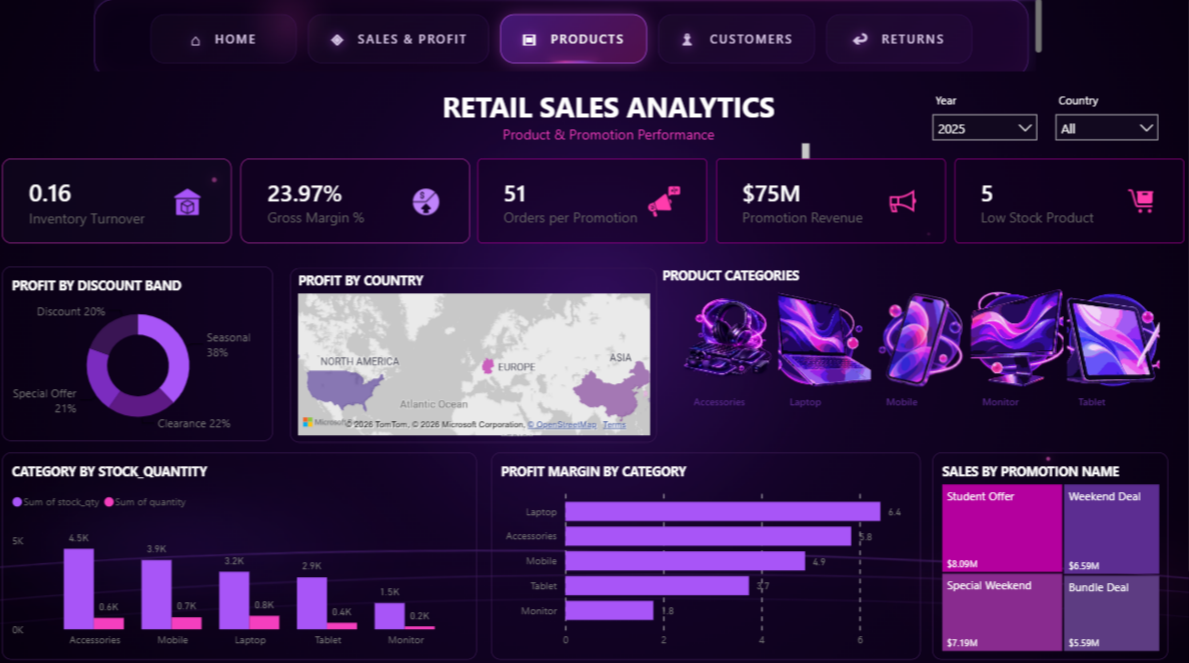

Layout of this report page (visuals, bound fields, positions):
{"tool":"powerbi","page":{"name":"Product & Promotion","canvas":[1280,720],"ordinal":2},"visuals":[{"type":"textStylerD577C9FF21FB4883A1CE1335C340B54F","fields":{"measure":["supplier.Animated Background"]},"box":[0,0,1279.7,720.3],"z":0},{"type":"textStylerD577C9FF21FB4883A1CE1335C340B54F","fields":{"measure":["supplier.Page Navigator product"]},"box":[102,0,1014.8,86.9],"z":1000},{"type":"textbox","title":"RETAIL SALES ANALYTICS","box":[434.6,100.2,436.5,81.3],"z":2000},{"type":"slicer","fields":{"Values":["orders.delivery_date.Variation.Date Hierarchy.Year"]},"box":[986.5,100.2,130.4,60.5],"z":3000},{"type":"slicer","fields":{"Values":["CountryCoordinates.Country"]},"box":[1116.9,100.2,128.5,60.5],"z":4000},{"type":"advancedSlicerVisual","title":"PRODUCT CATEGORIES","fields":{"Values":["CategoryImages.category"]},"box":[704.6,289.5,558.3,168.3],"z":5000},{"type":"clusteredColumnChart","title":"CATEGORY BY STOCK_QUANTITY","fields":{"Category":["product.category"],"Y":["Sum(product.stock_qty)","Sum(order_items.quantity)"]},"box":[10,486.7,503.3,220],"z":6000},{"type":"clusteredBarChart","title":"PROFIT MARGIN BY CATEGORY","fields":{"Category":["product.category Hierarchy.category","product.category Hierarchy.name"],"Y":["Sum(product.Product Profit Margin)"]},"box":[528.3,486.7,455,220],"z":7000},{"type":"donutChart","title":"PROFIT BY DISCOUNT BAND","fields":{"Category":["promotion.promotion_type"],"Y":["CountNonNull(order_items.order_id)"]},"box":[10,290,287.2,185.2],"z":8000},{"type":"treemap","title":"SALES BY PROMOTION NAME","fields":{"Group":["promotion.promotion_name"],"Values":["Sum(orders.total_amount)"]},"box":[995,486.7,250,220],"z":9000},{"type":"filledMap","title":"PROFIT BY COUNTRY","fields":{"Category":["CountryCoordinates.Country"]},"box":[314.5,290.3,388.7,185.5],"z":10000},{"type":"cardVisual","fields":{"Data":["product.Inventory Turnover"]},"box":[9.6,174.2,243.6,90.2],"z":11000},{"type":"cardVisual","fields":{"Data":["product.Low Stock Product"]},"box":[1019.2,174.2,243.6,90.2],"z":12000},{"type":"cardVisual","fields":{"Data":["order_items.Gross Margin%"]},"box":[262,174.2,243.6,90.2],"z":13000},{"type":"cardVisual","fields":{"Data":["promotion.Promotion Conversion Rate"]},"box":[514.4,174.2,243.6,90.2],"z":14000},{"type":"cardVisual","fields":{"Data":["promotion.Promotion Revenue"]},"box":[766.8,174.2,243.6,90.2],"z":15000},{"type":"pageNavigator","box":[154.3,17.5,730.3,50.2],"z":15001},{"type":"actionButton","box":[900.3,19.1,138,49.1],"z":15002}]}

Visuals, with their boxes in screenshot pixels (x1, y1, x2, y2), scaled from the page's 1280x720 canvas onto the 1189x663 screenshot:
textStylerD577C9FF21FB4883A1CE1335C340B54F - supplier.Animated Background: (0,0,1188,662)
textStylerD577C9FF21FB4883A1CE1335C340B54F - supplier.Page Navigator product: (95,0,1037,80)
"RETAIL SALES ANALYTICS" textbox: (404,92,809,167)
slicer - orders.delivery_date.Variation.Date Hierarchy.Year: (916,92,1037,148)
slicer - CountryCoordinates.Country: (1037,92,1157,148)
"PRODUCT CATEGORIES" advancedSlicerVisual: (655,267,1173,422)
"CATEGORY BY STOCK_QUANTITY" clusteredColumnChart: (9,448,477,651)
"PROFIT MARGIN BY CATEGORY" clusteredBarChart: (491,448,913,651)
"PROFIT BY DISCOUNT BAND" donutChart: (9,267,276,438)
"SALES BY PROMOTION NAME" treemap: (924,448,1156,651)
"PROFIT BY COUNTRY" filledMap: (292,267,653,438)
cardVisual - product.Inventory Turnover: (9,160,235,243)
cardVisual - product.Low Stock Product: (947,160,1173,243)
cardVisual - order_items.Gross Margin%: (243,160,470,243)
cardVisual - promotion.Promotion Conversion Rate: (478,160,704,243)
cardVisual - promotion.Promotion Revenue: (712,160,939,243)
pageNavigator: (143,16,822,62)
actionButton: (836,18,964,63)
